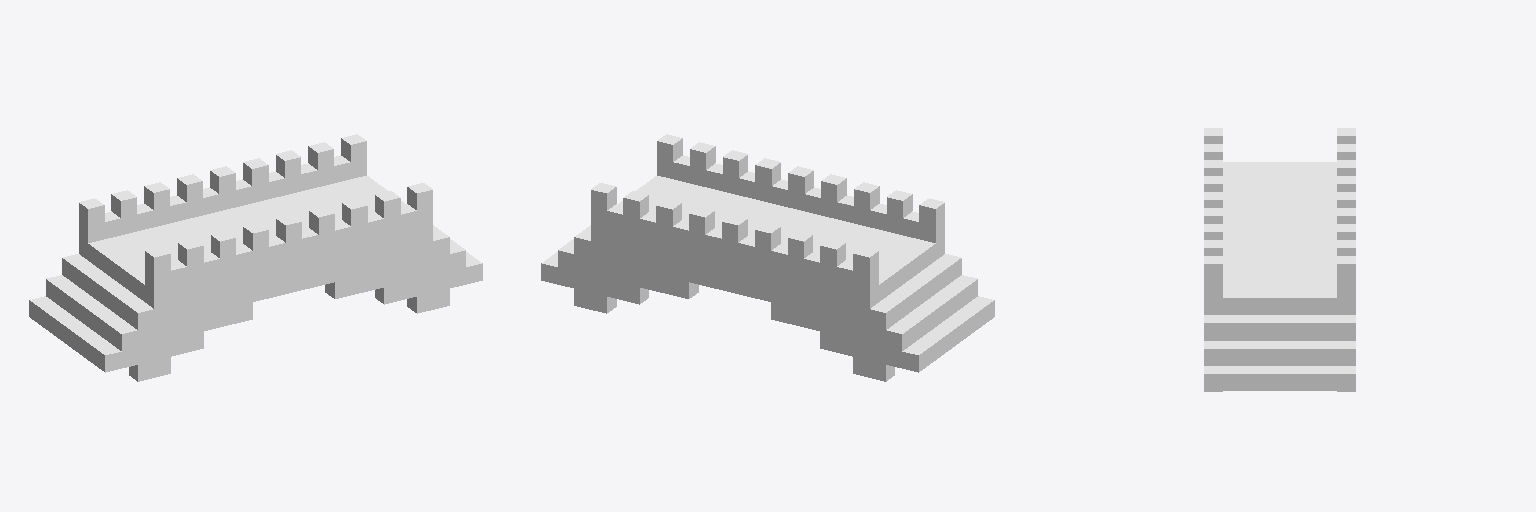
File: JungleBridge.obj
The picture shows the model from 3 angles: view 1: azimuth 30°, elevation 25°; view 2: azimuth 150°, elevation 25°; view 3: azimuth 270°, elevation 25°; orthographic projection.
Size of the model in its own units: 23 by 7 by 8.